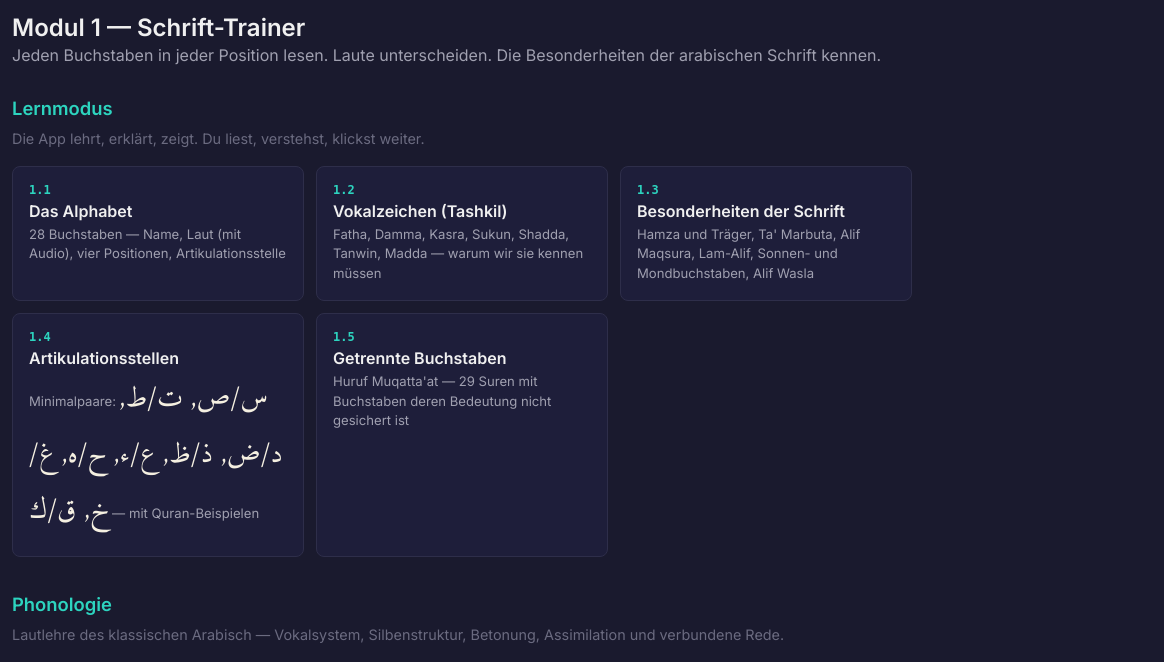
Module1 Overview and Section Navigation › clicking lesson 1.1 card navigates to Alphabet lesson
Click the text "Das Alphabet" at (81, 211), box left=29, top=201, right=132, bottom=221
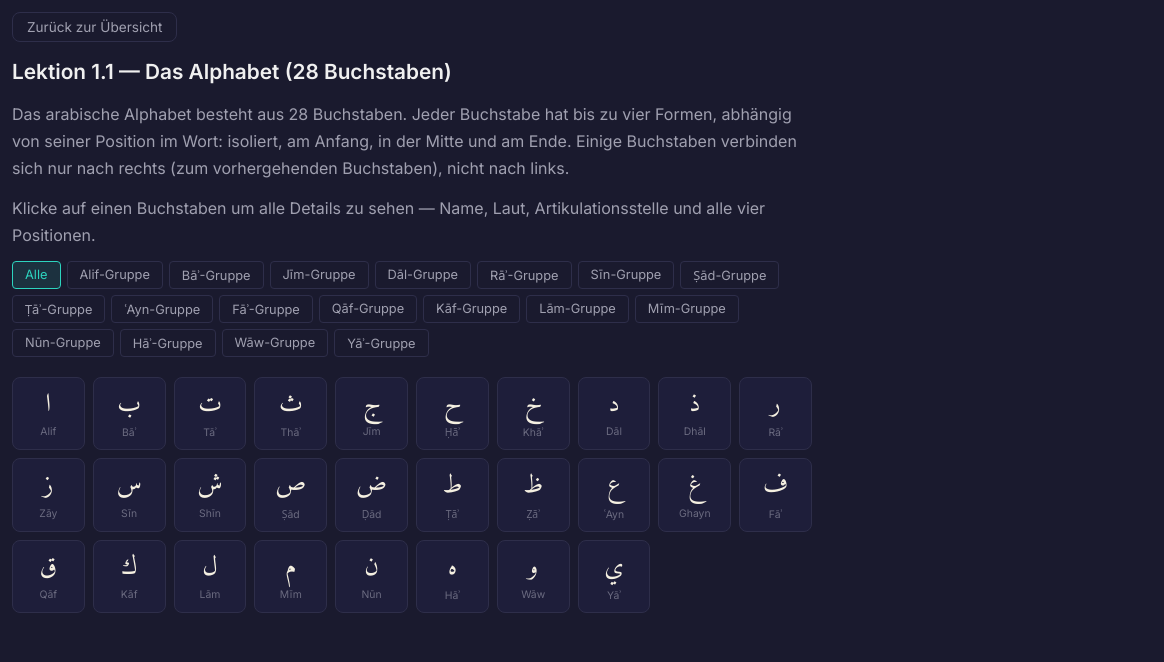
Now the heading "Lektion 1.1 — Das Alphabet (28 Buchstaben)" is shown, box left=12, top=59, right=452, bottom=84
